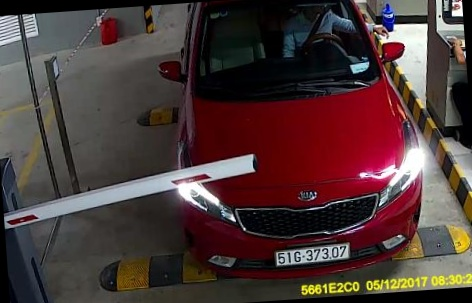plate: (270, 240, 359, 268)
